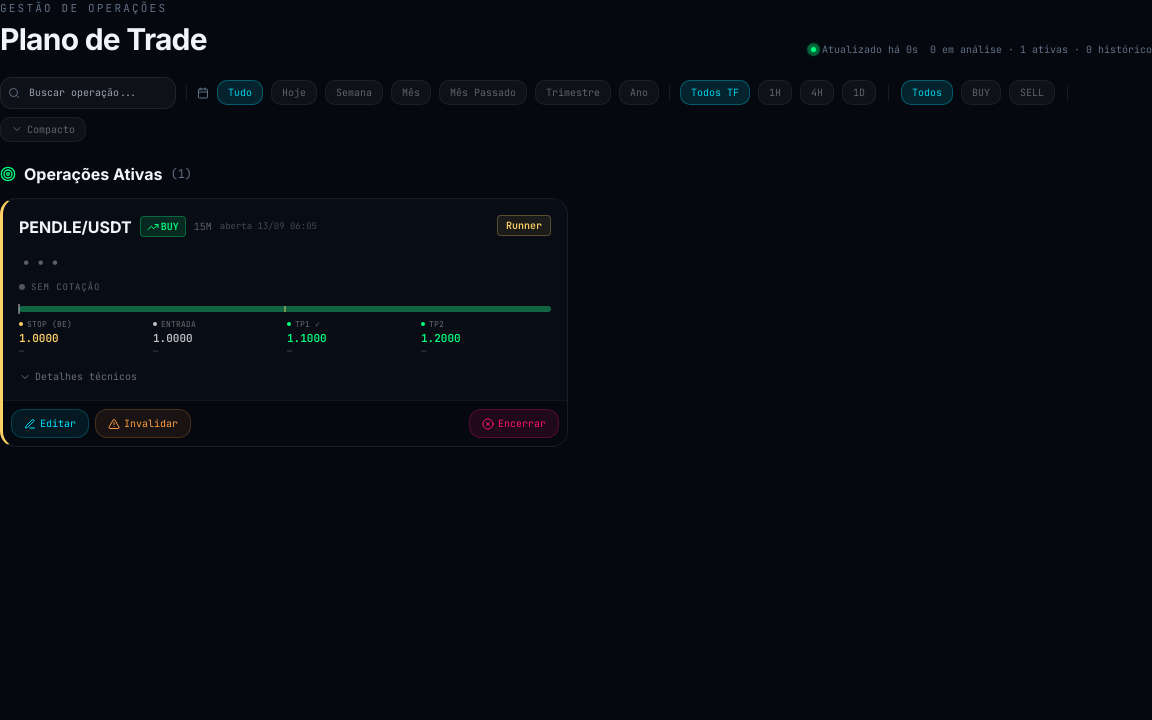
Test: Trades — modal de edição (EditModal) usa Dialog acessível (achado A-12) › REGRESSÃO: tem role="dialog" e fecha ao pressionar Esc
Click the button "Editar" at [50, 424], box top-left (11, 409), bottom-right (89, 438)
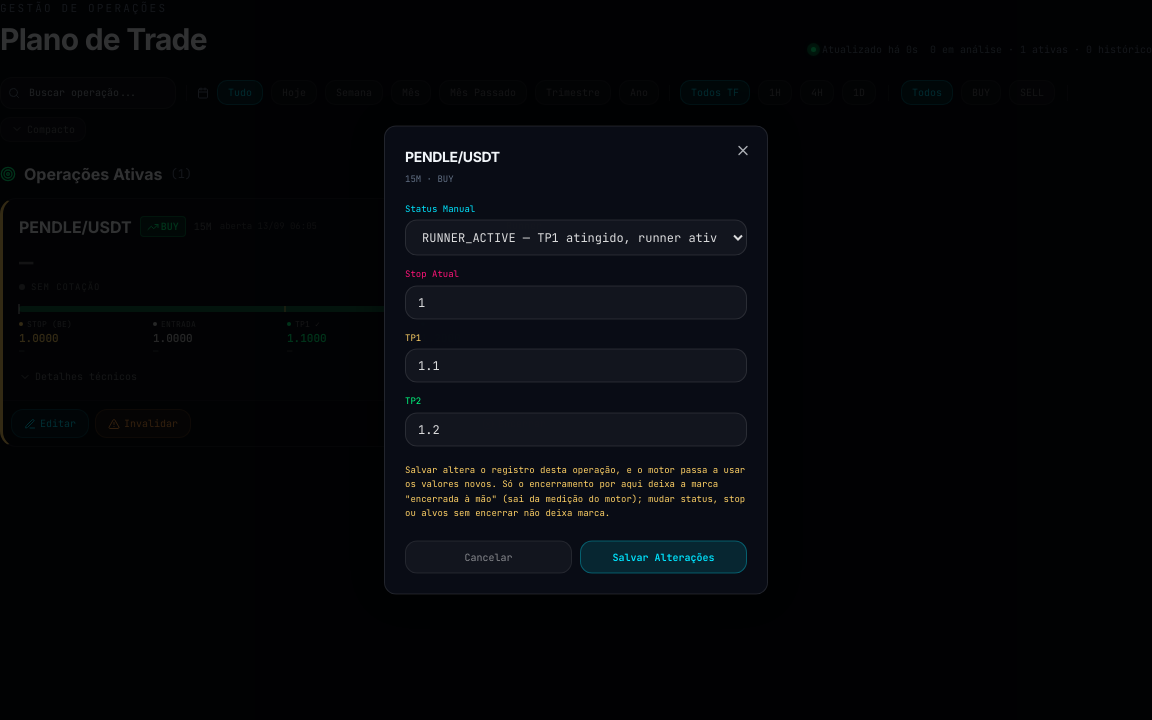
Result: the dialog is shown at top-left (384, 126), bottom-right (768, 594)
Press Escape
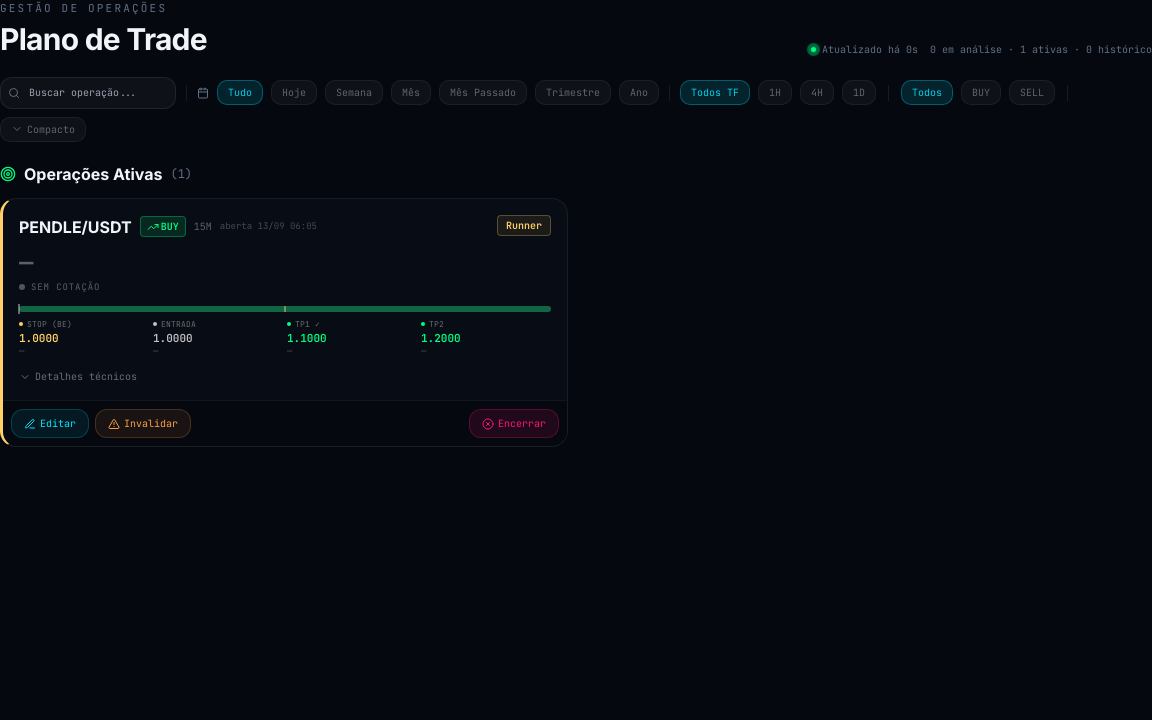
Result: the dialog is gone
